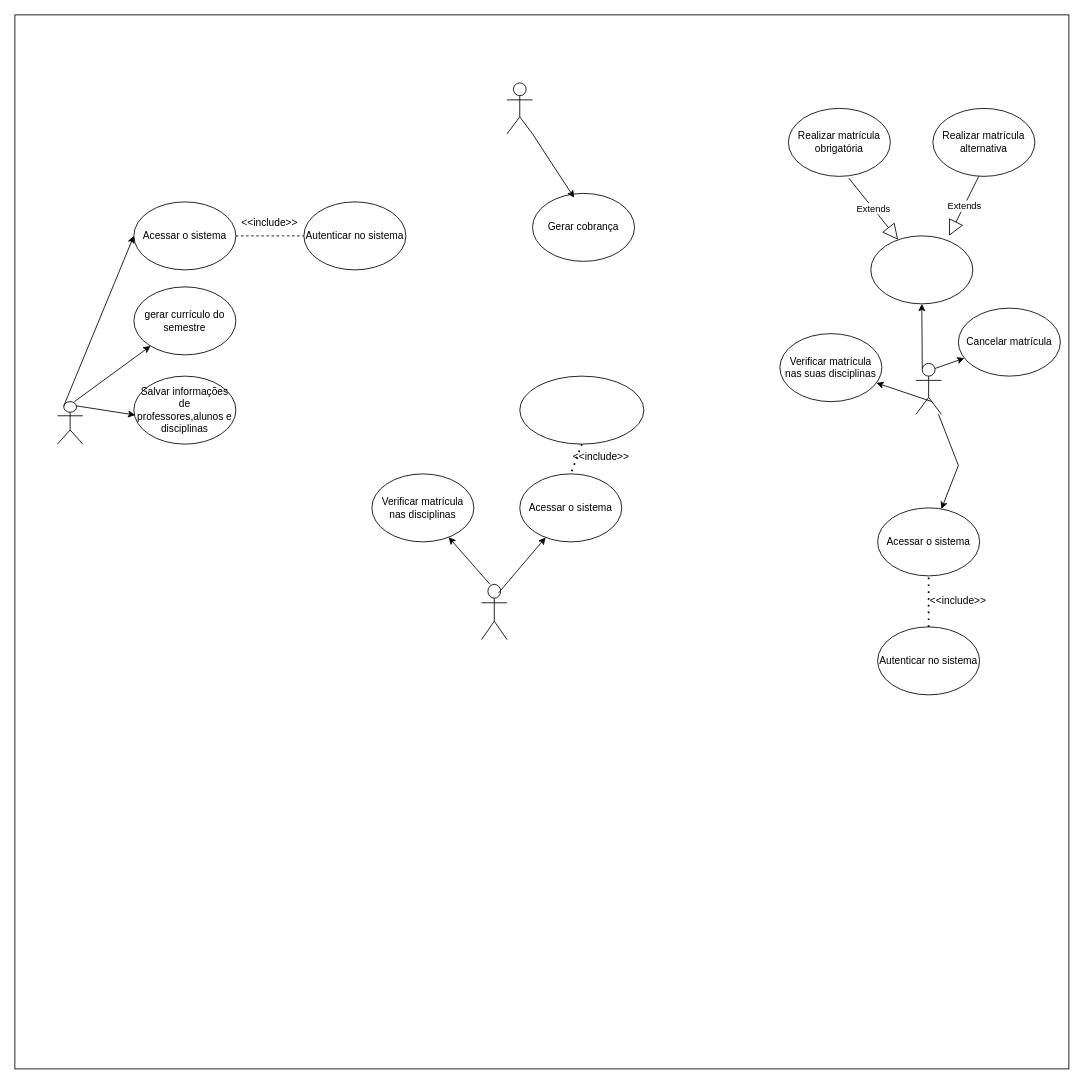
This 1084x1084 diagram has some shape labels left out. Each missing label, with the centre of its shape:
Agente Financeiro: [519,108]
Aluno: [928,388]
Autenticar sistema: [581,409]
Professor: [494,612]
Realizar matrícula: [921,269]
Secretaria: [70,422]
